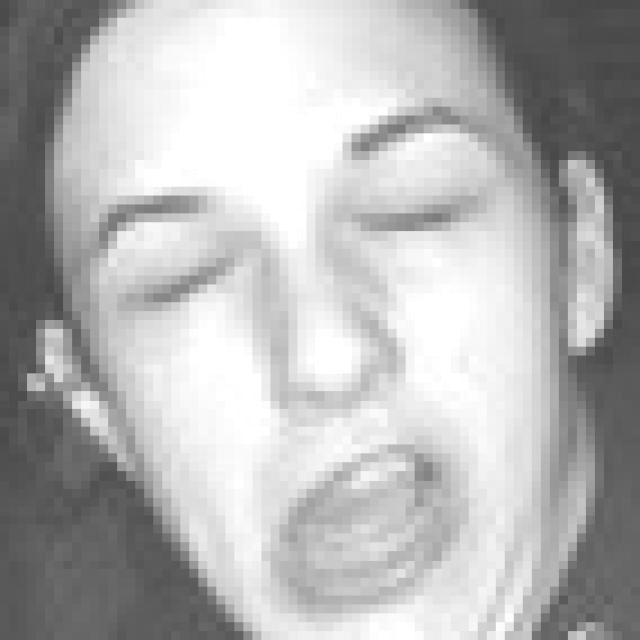real: (48, 14, 583, 608), (136, 181, 484, 308)
